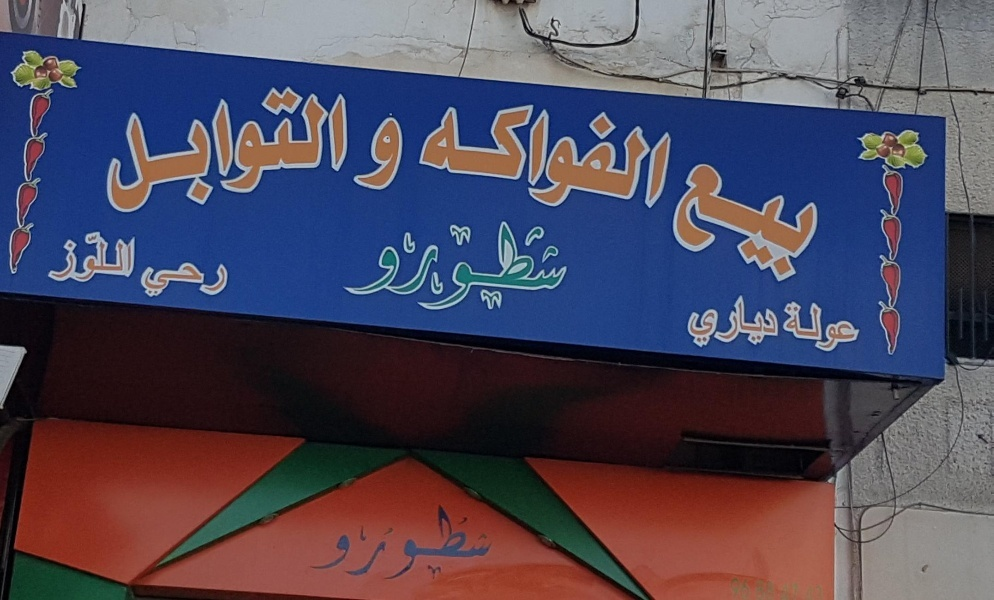text: (97, 73, 112, 228), (113, 73, 128, 228), (129, 73, 144, 228), (145, 73, 160, 228), (161, 73, 176, 228), (177, 73, 192, 228), (193, 73, 208, 228), (209, 73, 224, 228), (225, 73, 240, 228), (241, 73, 256, 228), (257, 73, 272, 228), (273, 73, 288, 228), (289, 73, 304, 228), (305, 73, 320, 228), (321, 73, 336, 228), (337, 73, 352, 228), (433, 90, 448, 221), (449, 90, 464, 221), (465, 90, 480, 221), (481, 90, 496, 221), (497, 90, 512, 221), (513, 90, 528, 221), (529, 90, 544, 221), (545, 90, 560, 221), (561, 90, 576, 221), (577, 90, 592, 221), (593, 90, 608, 221), (609, 90, 624, 221), (625, 90, 640, 221), (641, 90, 656, 221), (657, 90, 672, 221), (705, 158, 720, 289), (721, 158, 736, 289), (737, 158, 752, 289), (753, 158, 768, 289), (769, 158, 784, 289), (785, 158, 800, 289), (801, 158, 816, 289), (353, 217, 368, 322), (369, 217, 384, 322), (385, 217, 400, 322), (401, 217, 416, 322), (417, 217, 432, 322), (433, 217, 448, 322), (449, 217, 464, 322), (465, 217, 480, 322), (481, 217, 496, 322), (497, 217, 512, 322), (513, 217, 528, 322), (529, 217, 544, 322), (545, 217, 560, 322), (86, 73, 96, 228), (693, 158, 704, 289), (561, 217, 573, 322), (817, 158, 826, 289), (337, 502, 352, 580), (353, 502, 368, 580), (369, 502, 384, 580), (385, 502, 400, 580), (401, 502, 416, 580), (417, 502, 432, 580), (433, 502, 448, 580), (449, 502, 464, 580), (465, 502, 480, 580), (481, 502, 496, 580), (369, 116, 384, 191), (385, 116, 400, 191), (65, 229, 80, 284), (81, 229, 96, 284), (97, 229, 112, 284), (113, 229, 128, 284), (785, 300, 800, 355), (801, 300, 816, 355), (817, 300, 832, 355), (833, 300, 848, 355), (689, 295, 704, 348), (705, 295, 720, 348), (721, 295, 736, 348), (737, 295, 752, 348), (753, 295, 768, 348), (426, 90, 432, 221), (326, 502, 336, 580), (769, 295, 782, 348), (129, 229, 141, 284), (849, 300, 861, 355), (145, 259, 160, 299), (161, 259, 176, 299), (177, 259, 192, 299), (193, 259, 208, 299), (209, 259, 224, 299), (57, 229, 64, 284), (737, 577, 750, 600), (756, 578, 768, 600), (673, 90, 675, 221), (785, 582, 799, 600), (401, 116, 404, 191), (225, 259, 230, 299), (728, 577, 736, 600), (805, 584, 816, 600), (497, 502, 499, 580), (817, 584, 825, 600), (769, 578, 773, 600), (367, 116, 368, 191), (781, 582, 784, 600), (687, 295, 688, 348)
